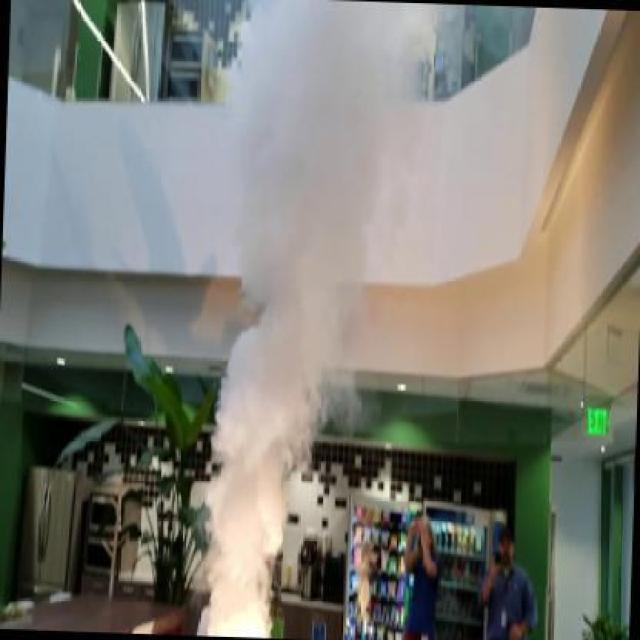fire: (228, 0, 392, 323), (194, 322, 336, 638)
